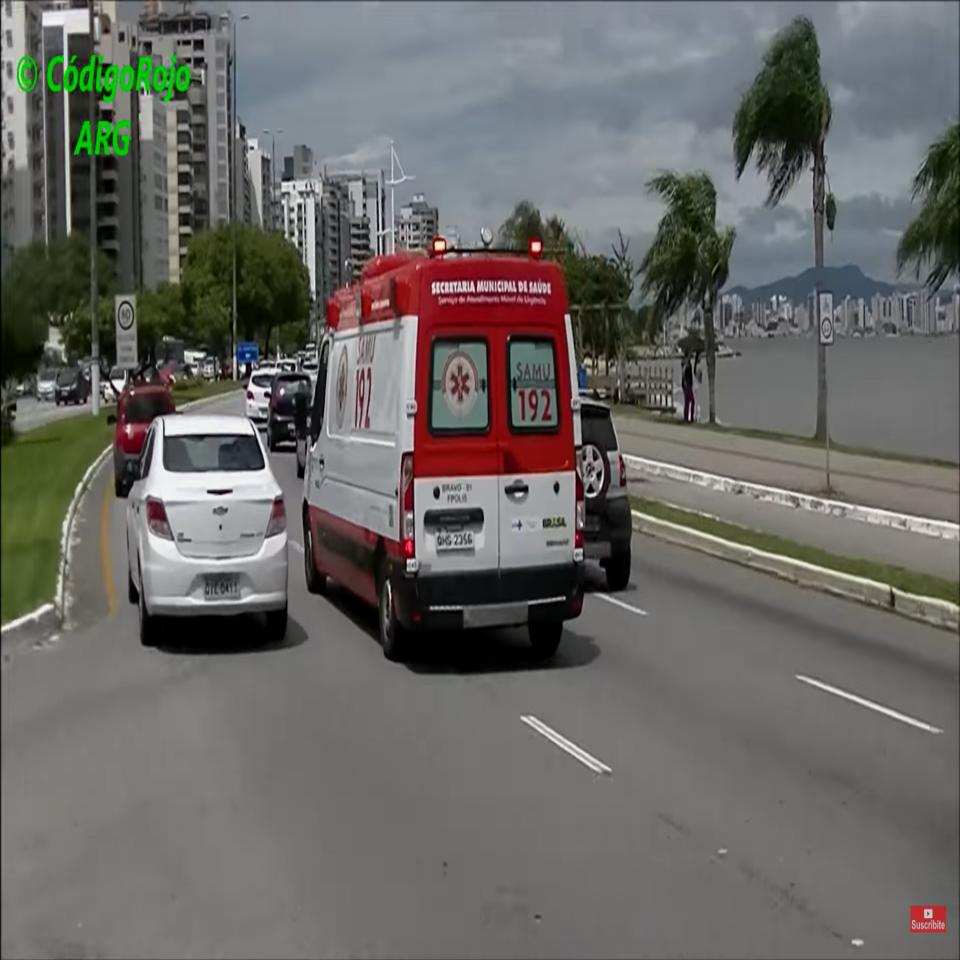ambulancia: (296, 225, 584, 662)
